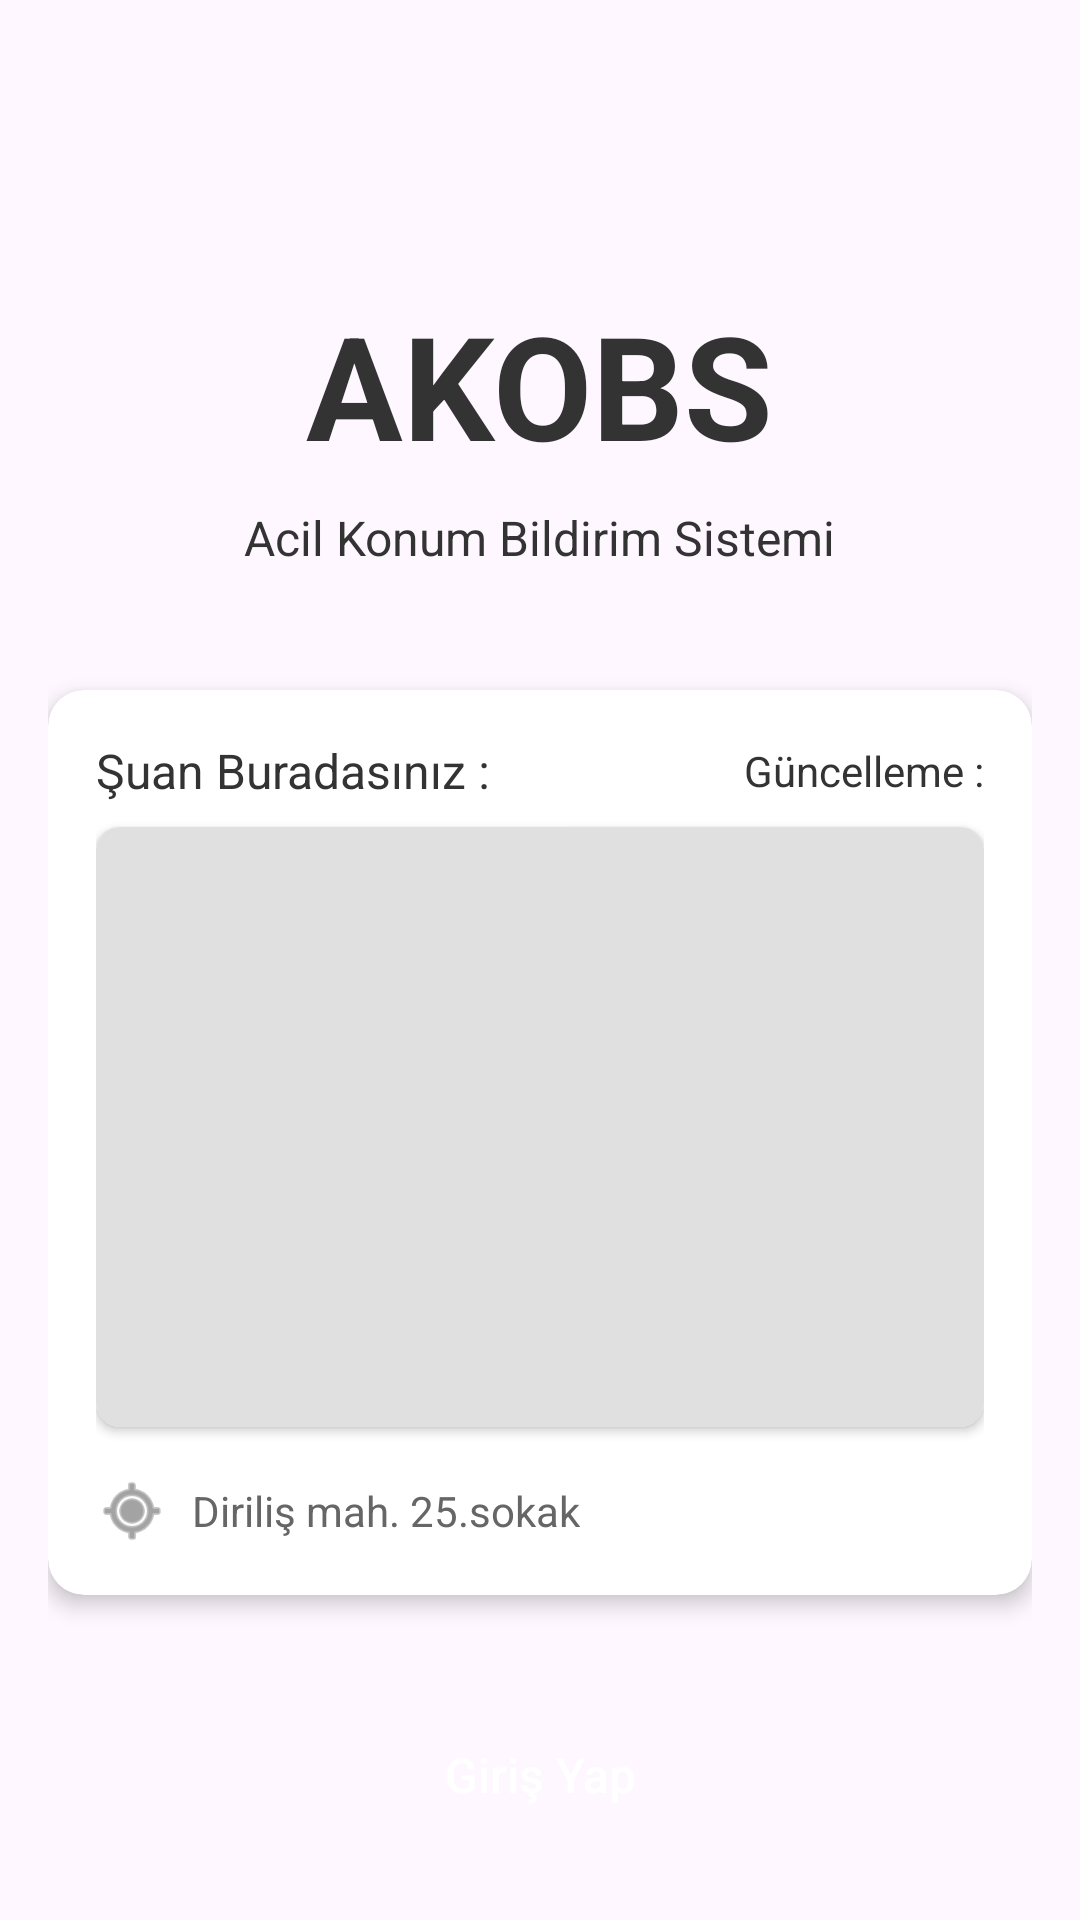

Screen size 1080w x 1920h. Icon name, then its center in pixels as [x,y]:
mylocation: [132,1511]
